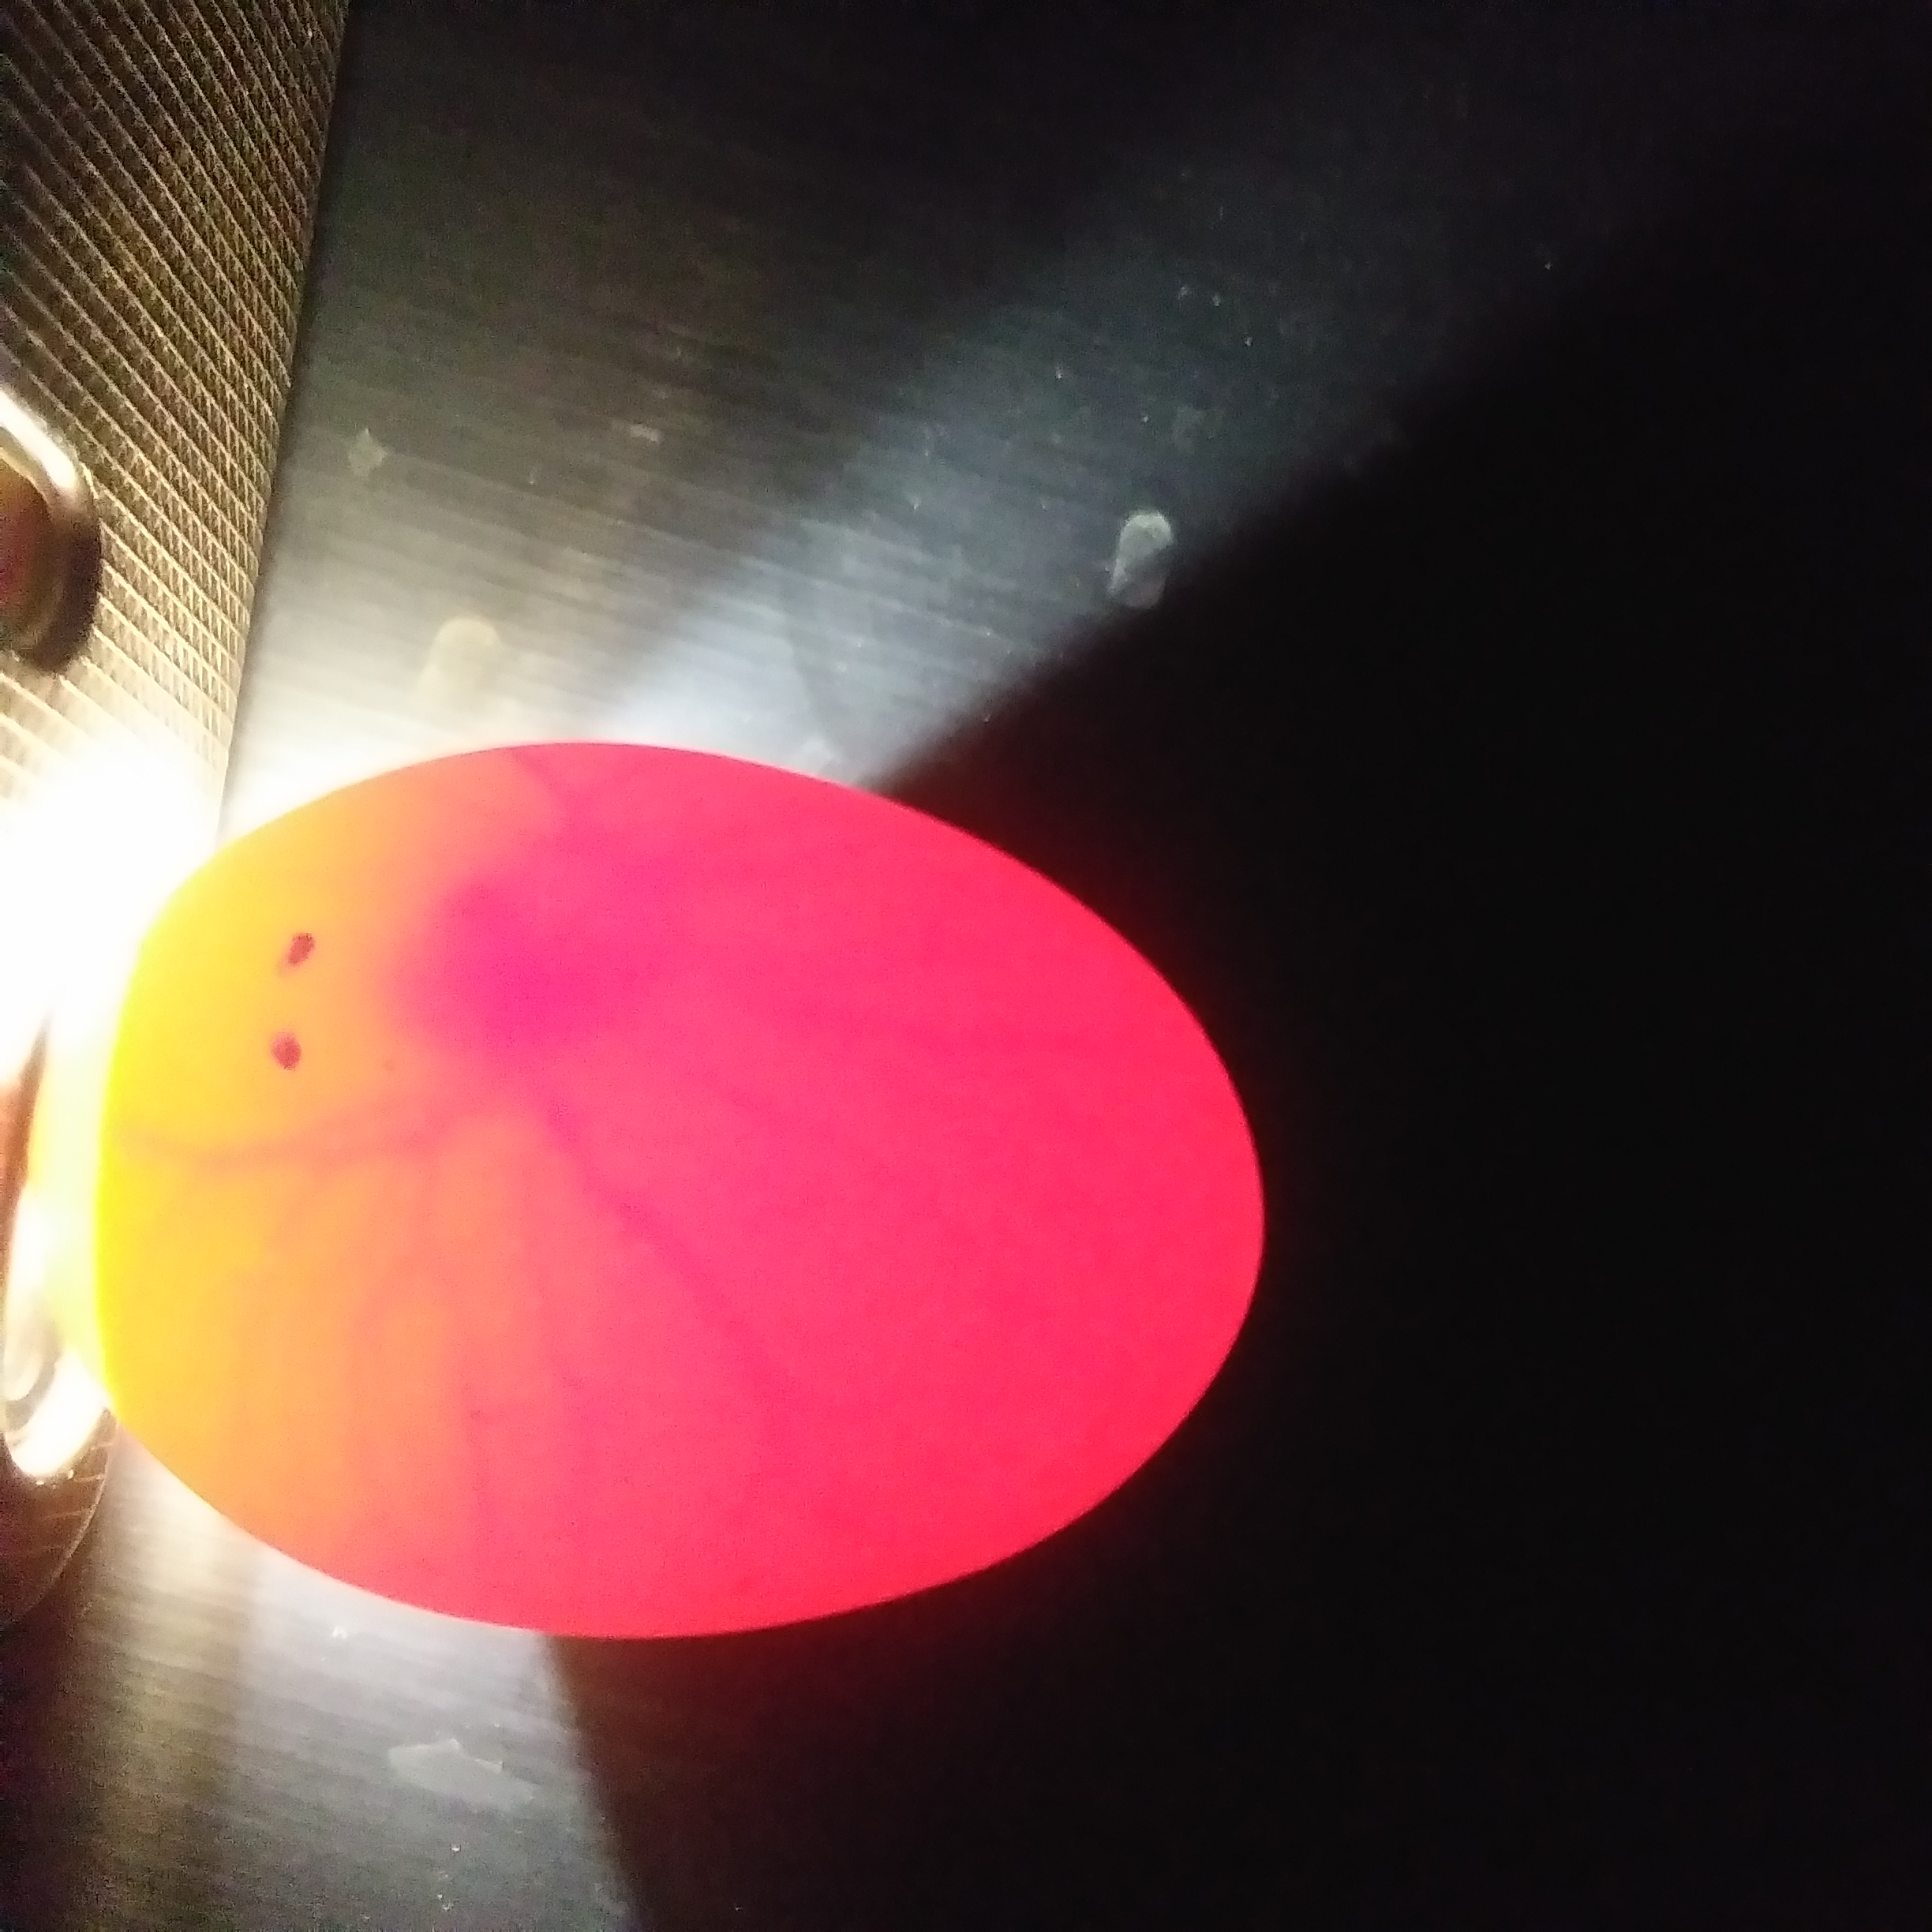bloodcell: (152, 1129, 1072, 1470)
